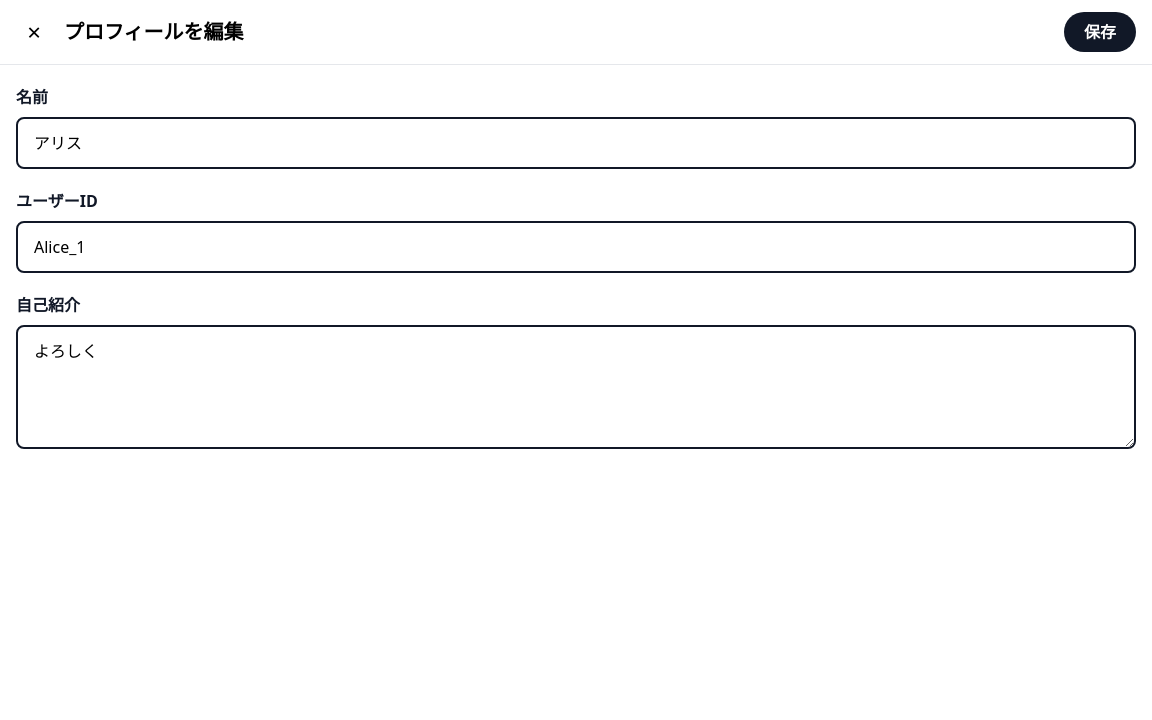
Test case: ProfileEditForm › DB障害などはフォーム全体のメッセージとして表示し、入力値を保持する
Click the button "保存" at [1100, 32], box [1064, 12, 1136, 52]
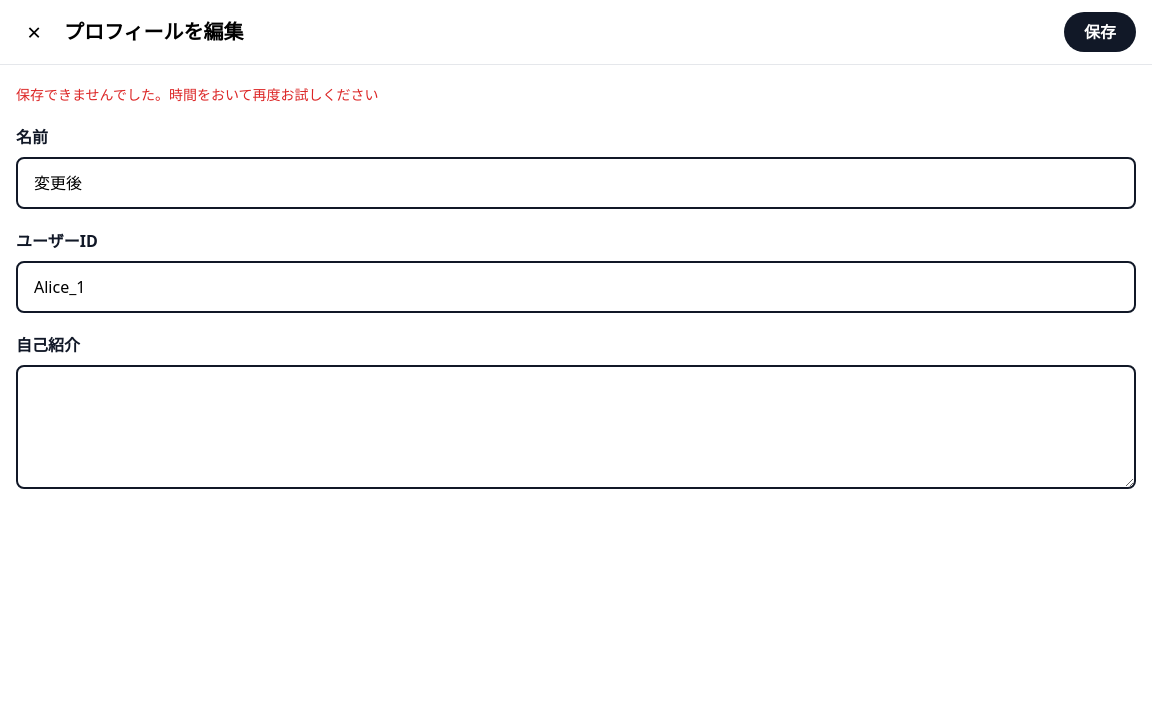
Now the message shows "保存できませんでした", box [16, 85, 378, 104]
Now the field labelled "名前" holds "変更後", box [16, 157, 1136, 209]
